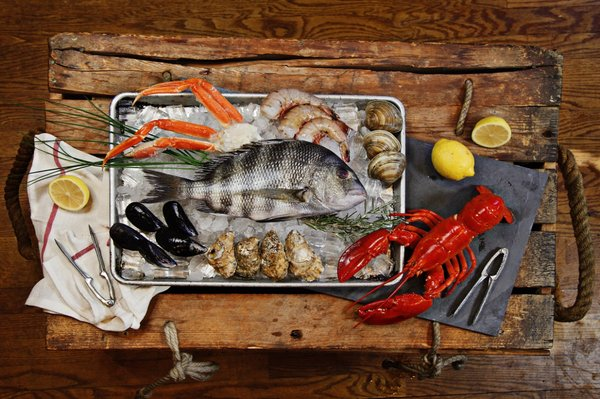curry: (1, 0, 497, 387)
pizza: (189, 79, 244, 124)
